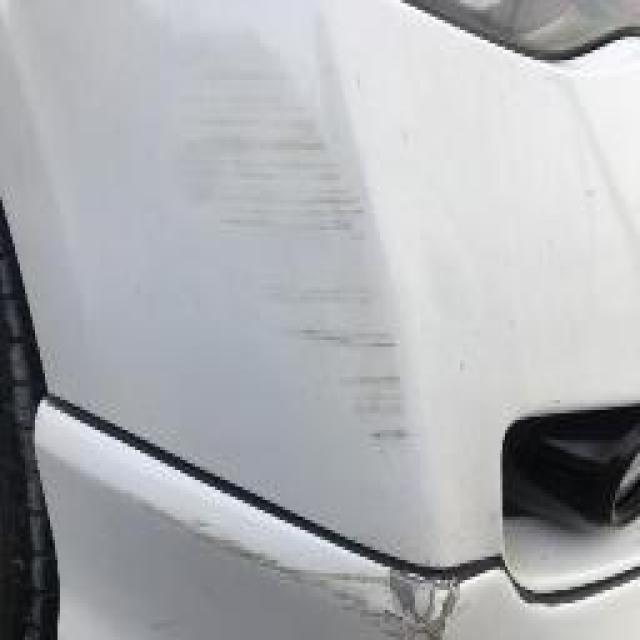Bumper: (158, 507, 530, 640)
Fender: (172, 13, 495, 530)
